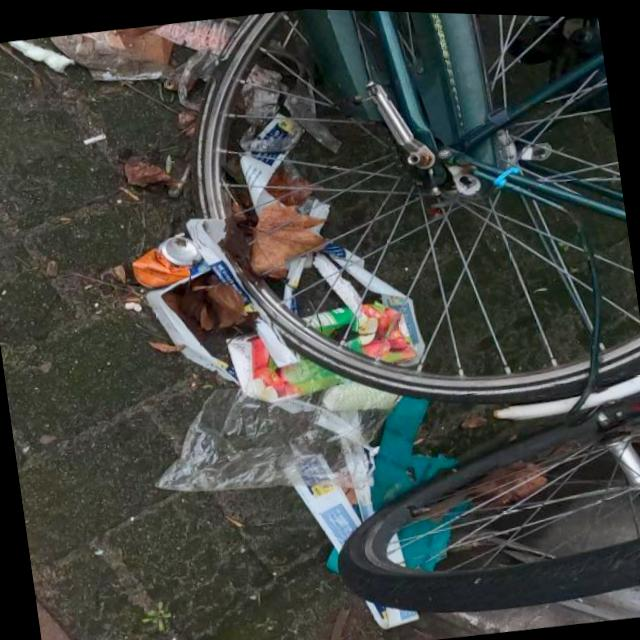Can-Metal: (124, 229, 206, 293)
Cup: (319, 370, 406, 415)
